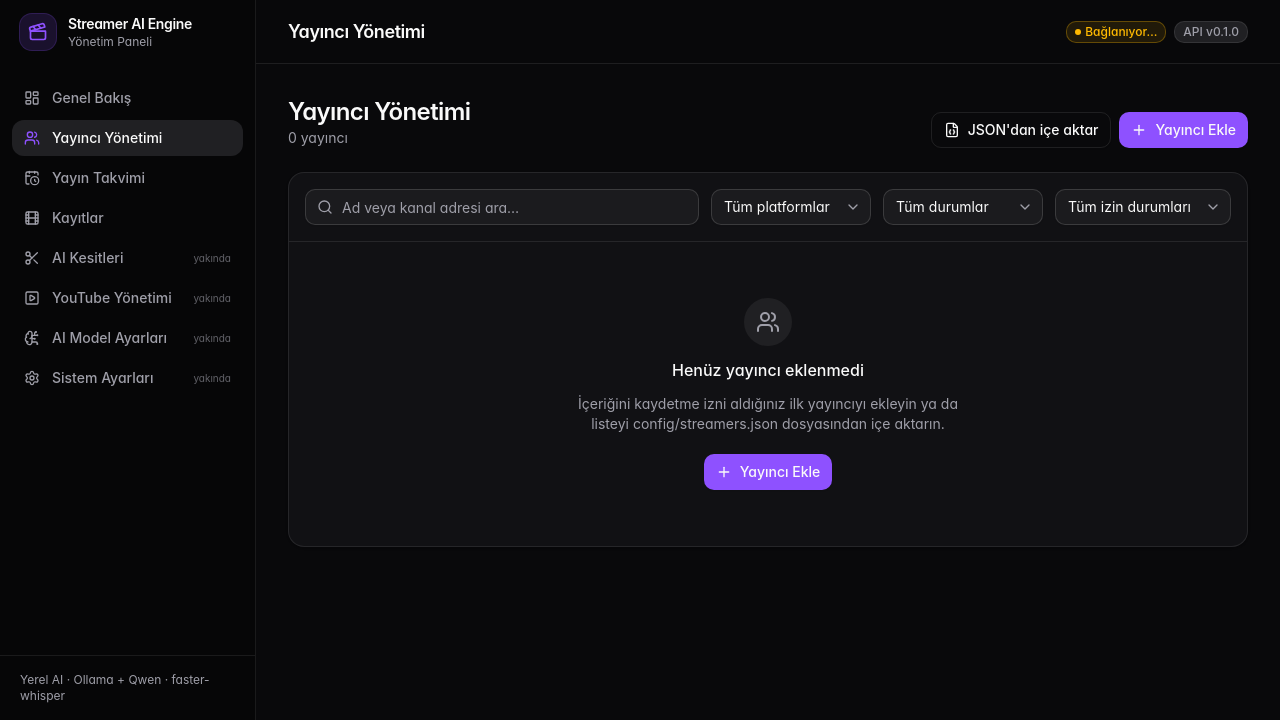
Test: StreamersPage › creates a streamer and shows server-side field errors
This screenshot has width=1280, height=720.
Click the 1st button "Yayıncı Ekle" at (1184, 130), box 1120,112 -> 1248,148
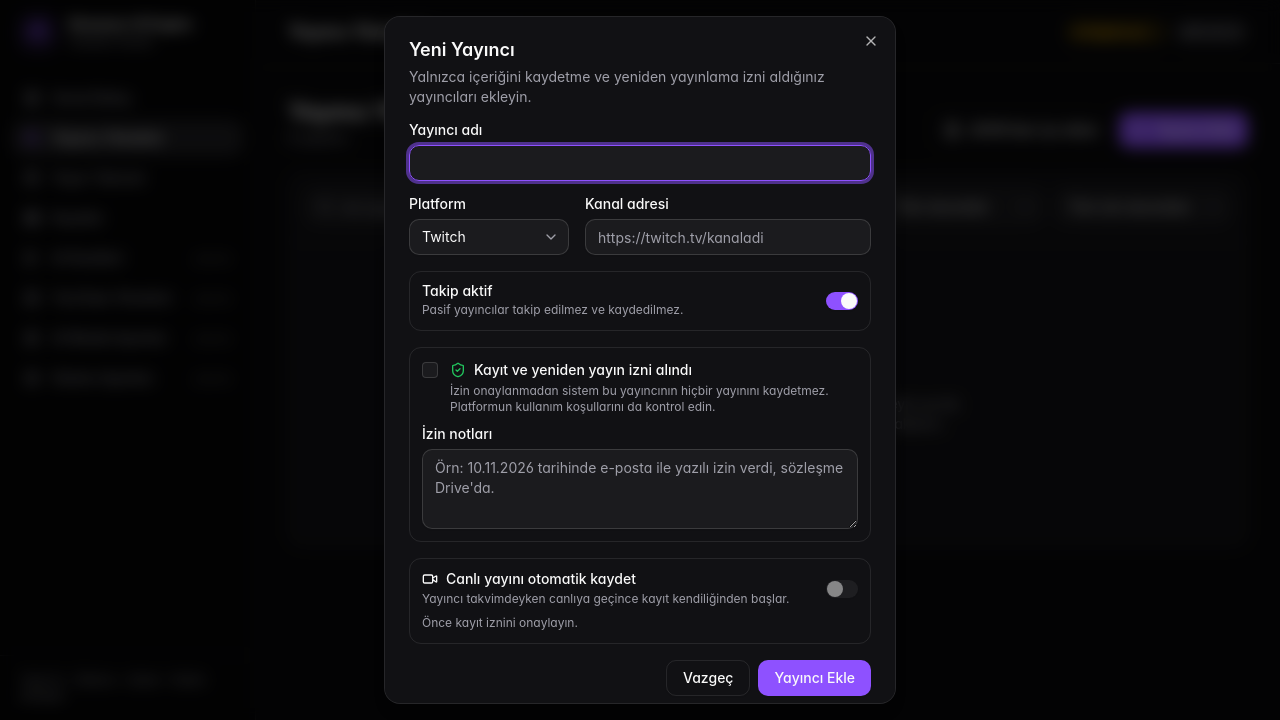
Type "New" into the field labelled "Yayıncı adı" at (640, 163), box 409,145 -> 871,181
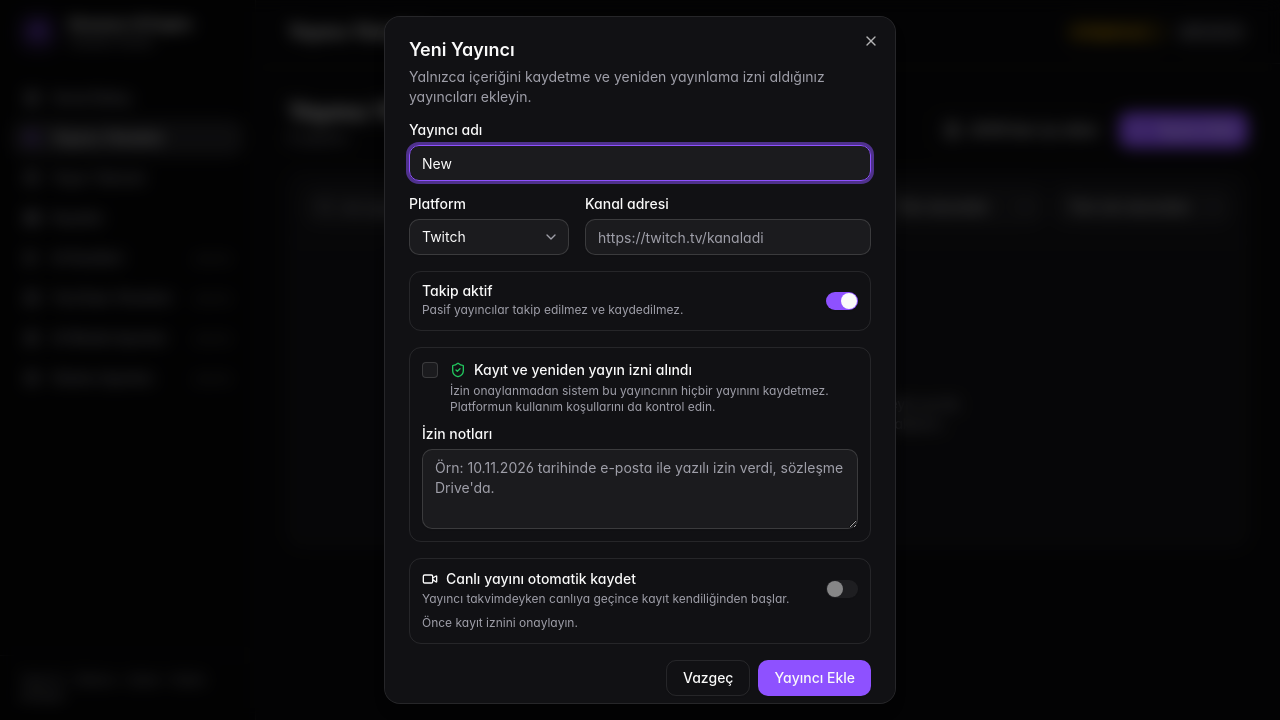
Type "https://kick.com/new" into the field labelled "Kanal adresi" at (728, 237), box 585,219 -> 871,255
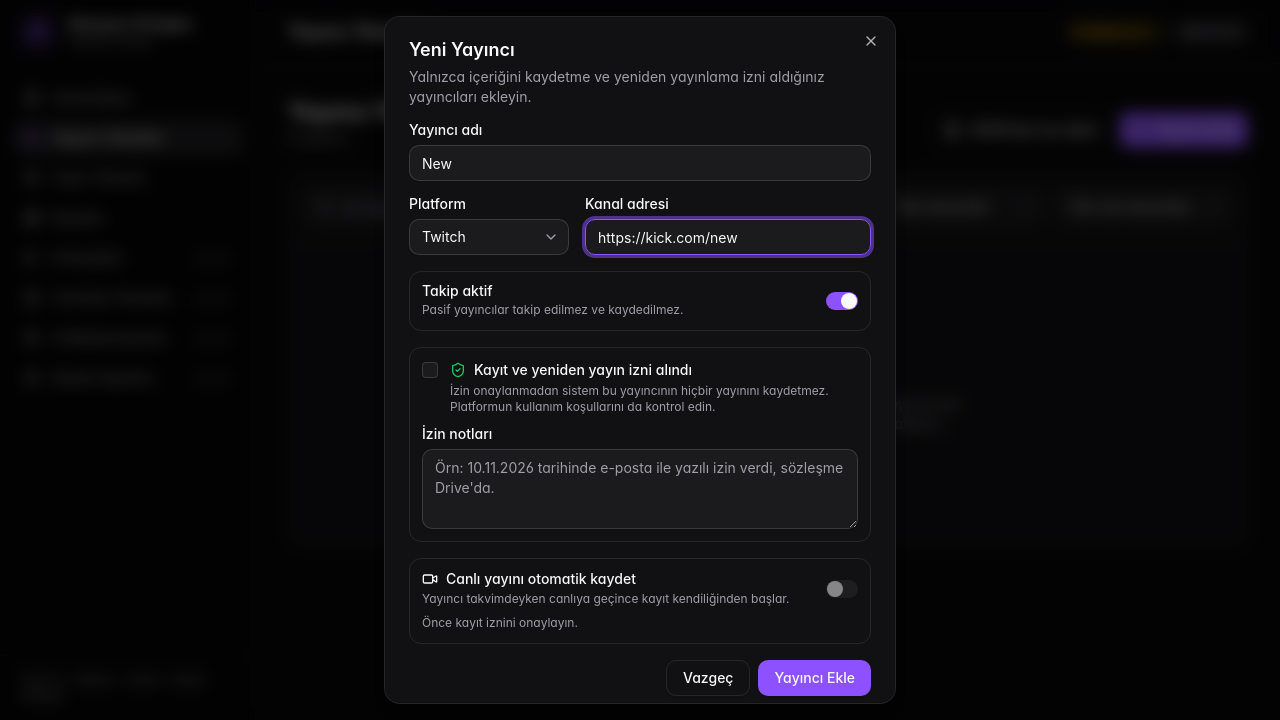
Click the button "Yayıncı Ekle" at (815, 678), box 758,660 -> 871,696
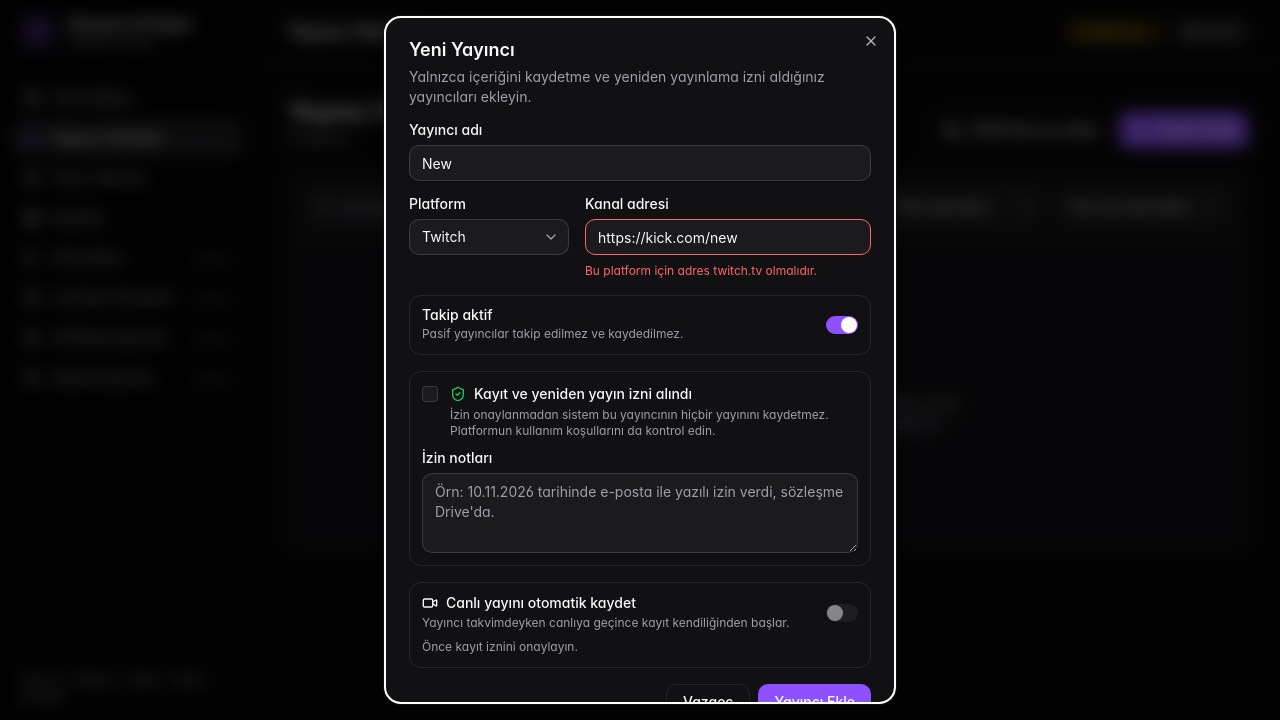
Result: the text "Bu platform için adres twitch.tv olmalıdır." is shown at 585,263 -> 817,278
Replace the text in the field labelled "Kanal adresi" with "https://twitch.tv/new" at (728, 237), box 585,219 -> 871,255
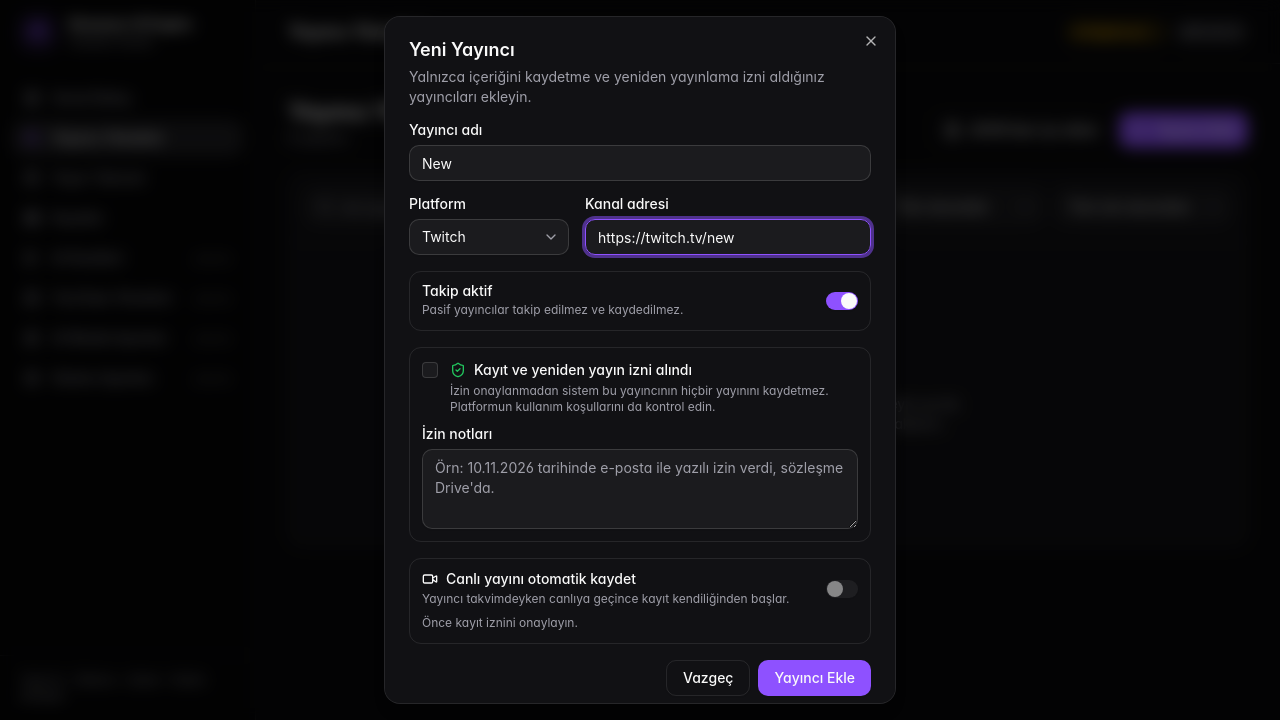
Click the button "Yayıncı Ekle" at (815, 678), box 758,660 -> 871,696
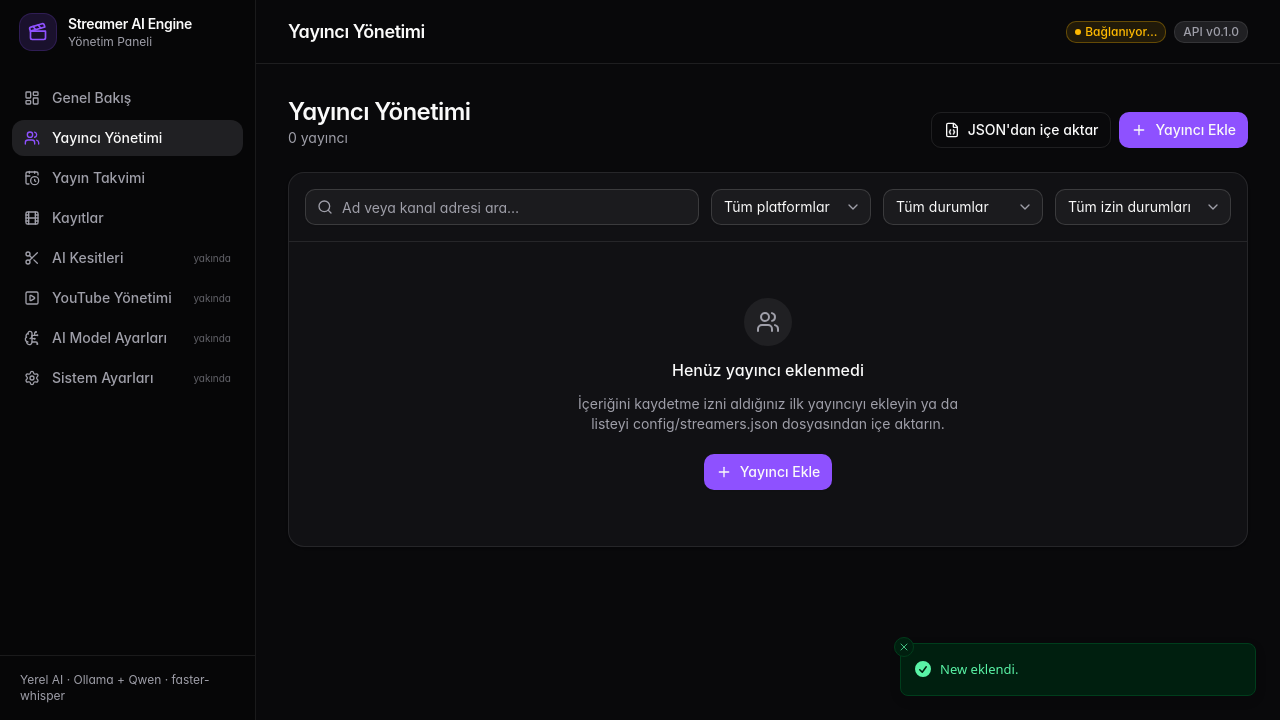
Result: the dialog is gone
